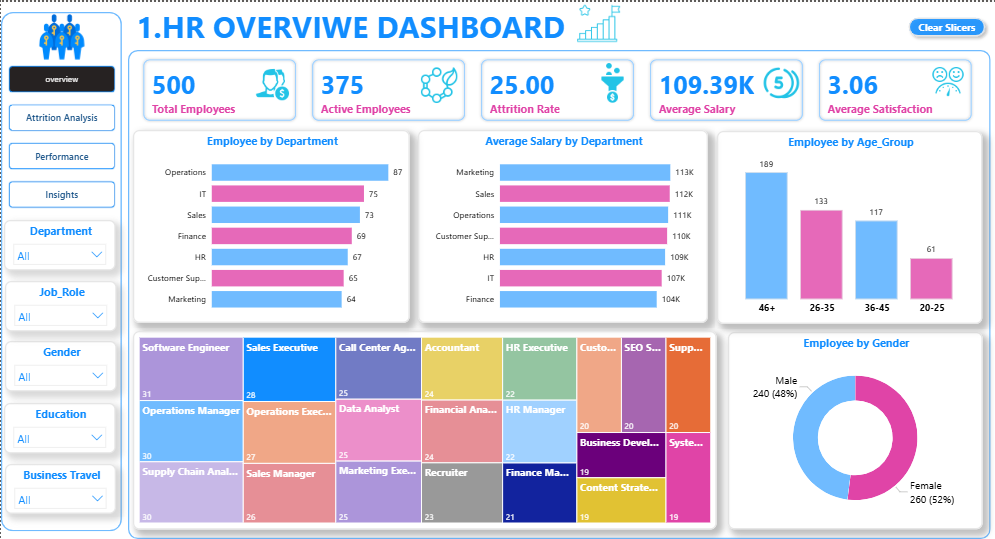

Layout of this report page (visuals, bound fields, positions):
{"tool":"powerbi","page":{"name":"overview","canvas":[1580,860],"ordinal":0},"visuals":[{"type":"shape","box":[0,15.5,191.8,824.1],"z":0},{"type":"shape","box":[201,76.9,1368.7,776.1],"z":1000},{"type":"textbox","box":[209.1,0,720.8,76.5],"z":2000},{"type":"slicer","title":"Education","fields":{"Values":["Sheet1.Education"]},"box":[5.2,636,176.7,79.8],"z":3000},{"type":"cardVisual","fields":{"Data":["Sheet1.Total Employees","Sheet1.Active Employees","Sheet1.Attrition Rate","Sheet1.Average Salary","Sheet1.Average Satisfaction"]},"box":[202.1,67.4,1366.6,146.8],"z":4000},{"type":"clusteredBarChart","title":"Employee by Department","fields":{"Y":["CountNonNull(Sheet1.Employee_ID)"],"Category":["Sheet1.Department"]},"box":[209,203.9,438.8,305.8],"z":5000},{"type":"donutChart","title":"Employee by Gender","fields":{"Y":["CountNonNull(Sheet1.Employee_ID)"],"Category":["Sheet1.Gender"]},"box":[1153.7,524.4,403.8,312.9],"z":6000},{"type":"barChart","fields":{"Y":["Sheet1.Average Salary"],"Category":["Sheet1.Department"]},"box":[661.7,203.9,459.6,305.8],"z":7000},{"type":"columnChart","title":"Employee by Age_Group","fields":{"Y":["CountNonNull(Sheet1.Employee_ID)"],"Category":["Sheet1.Age_Group"]},"box":[1136.2,204.5,421.3,305.9],"z":8000},{"type":"treemap","title":"Employee by Job_Role","fields":{"Group":["Sheet1.Job_Role"],"Values":["CountNonNull(Sheet1.Employee_ID)"]},"box":[209.8,522.6,926.4,314.6],"z":9000},{"type":"slicer","title":"Department","fields":{"Values":["Sheet1.Department"]},"box":[5.2,345.5,176.7,79.8],"z":10000},{"type":"slicer","title":"Gender","fields":{"Values":["Sheet1.Gender"]},"box":[6.9,537.5,176.7,79.8],"z":11000},{"type":"slicer","title":"Job_Role","fields":{"Values":["Sheet1.Job_Role"]},"box":[6.9,442.4,176.7,79.8],"z":12000},{"type":"slicer","title":"Business Travel","fields":{"Values":["Sheet1.Business_Travel"]},"box":[7,733.2,176.2,79.5],"z":13000},{"type":"pageNavigator","box":[10.4,100.2,171,228],"z":14000},{"type":"actionButton","box":[1430.5,15.3,139.3,47.6],"z":15000},{"type":"image","box":[38.6,15.5,117.5,78.8],"z":16000},{"type":"image","box":[402.6,100.2,54.4,57.8],"z":17000},{"type":"image","box":[660.9,100.2,66.3,62.9],"z":18000},{"type":"image","box":[929.3,96.8,81.5,62.9],"z":19000},{"type":"image","box":[1204.5,96.8,68,62.9],"z":20000},{"type":"image","box":[1476.4,96.8,54.4,57.8],"z":21000},{"type":"image","box":[885.1,0,125.7,68],"z":22000}]}

Visuals, with their boxes in screenshot pixels (x1, y1, x2, y2), scaled from the page's 1580x860 canvas onto the 995x539 screenshot:
shape: x1=0 y1=10 x2=121 y2=526
shape: x1=127 y1=48 x2=989 y2=535
textbox: x1=132 y1=0 x2=586 y2=48
"Education" slicer: x1=3 y1=399 x2=115 y2=449
cardVisual - Sheet1.Total Employees x Sheet1.Active Employees: x1=127 y1=42 x2=988 y2=134
"Employee by Department" clusteredBarChart: x1=132 y1=128 x2=408 y2=319
"Employee by Gender" donutChart: x1=727 y1=329 x2=981 y2=525
barChart - Sheet1.Average Salary x Sheet1.Department: x1=417 y1=128 x2=706 y2=319
"Employee by Age_Group" columnChart: x1=716 y1=128 x2=981 y2=320
"Employee by Job_Role" treemap: x1=132 y1=328 x2=716 y2=525
"Department" slicer: x1=3 y1=217 x2=115 y2=267
"Gender" slicer: x1=4 y1=337 x2=116 y2=387
"Job_Role" slicer: x1=4 y1=277 x2=116 y2=327
"Business Travel" slicer: x1=4 y1=460 x2=115 y2=509
pageNavigator: x1=7 y1=63 x2=114 y2=206
actionButton: x1=901 y1=10 x2=989 y2=39
image: x1=24 y1=10 x2=98 y2=59
image: x1=254 y1=63 x2=288 y2=99
image: x1=416 y1=63 x2=458 y2=102
image: x1=585 y1=61 x2=637 y2=100
image: x1=759 y1=61 x2=801 y2=100
image: x1=930 y1=61 x2=964 y2=97
image: x1=557 y1=0 x2=637 y2=43
